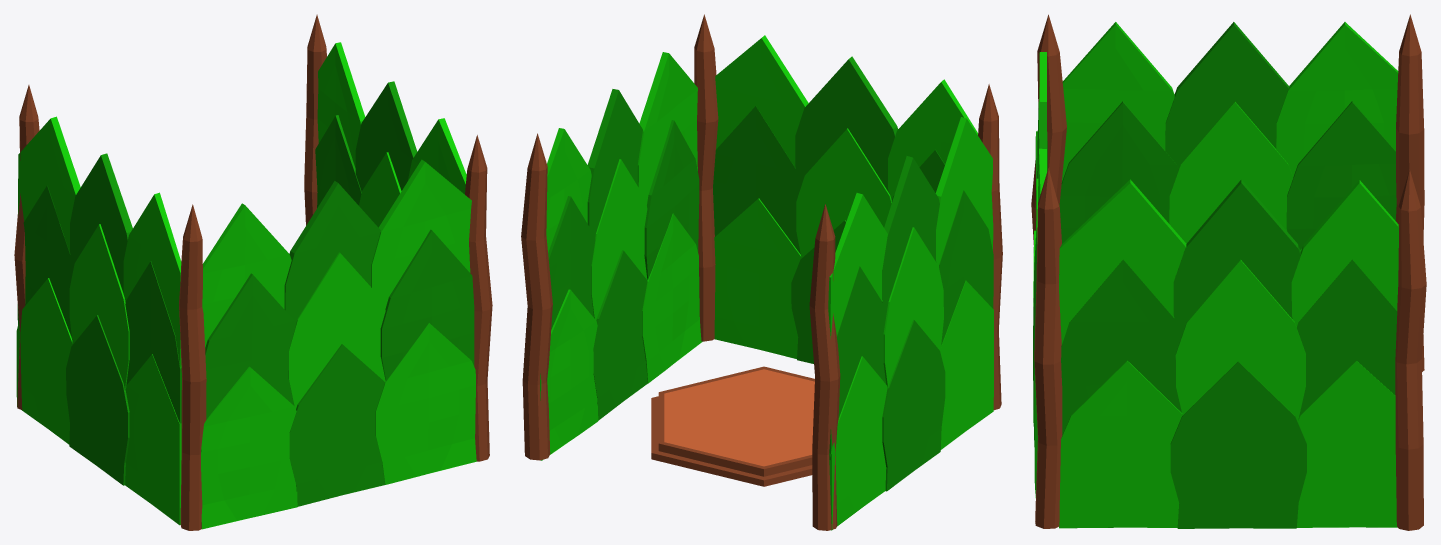
The model's file is Wardrobe.fbx.
3 views of the same model, side by side, from view 1: azimuth 30°, elevation 25°; view 2: azimuth 150°, elevation 25°; view 3: azimuth 270°, elevation 25° (orthographic). The views are drawn at different scales.
Visible parts, largest first — view 1: Torus.021; view 2: Torus.021; view 3: Torus.021.
Boxes of the visible parts, bbox=[...] form: Torus.021: bbox=[14, 14, 492, 530]; Torus.021: bbox=[521, 14, 1002, 530]; Torus.021: bbox=[1031, 14, 1426, 530].
Bounding box in the file's own units: 535 × 526 × 525.
